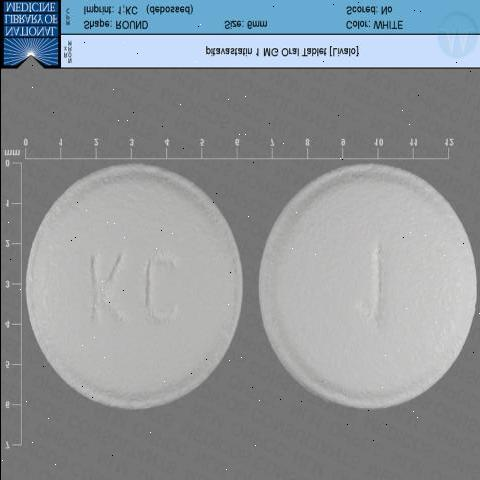Pill: (253, 133, 476, 418), (19, 147, 247, 410)
